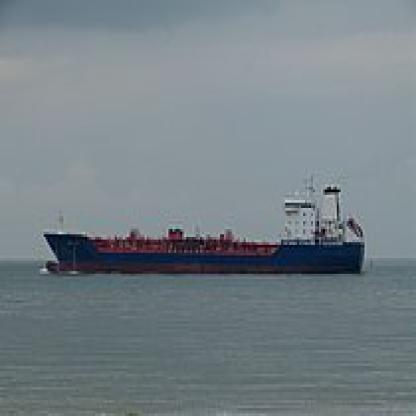Tanker: (35, 212, 377, 286)
